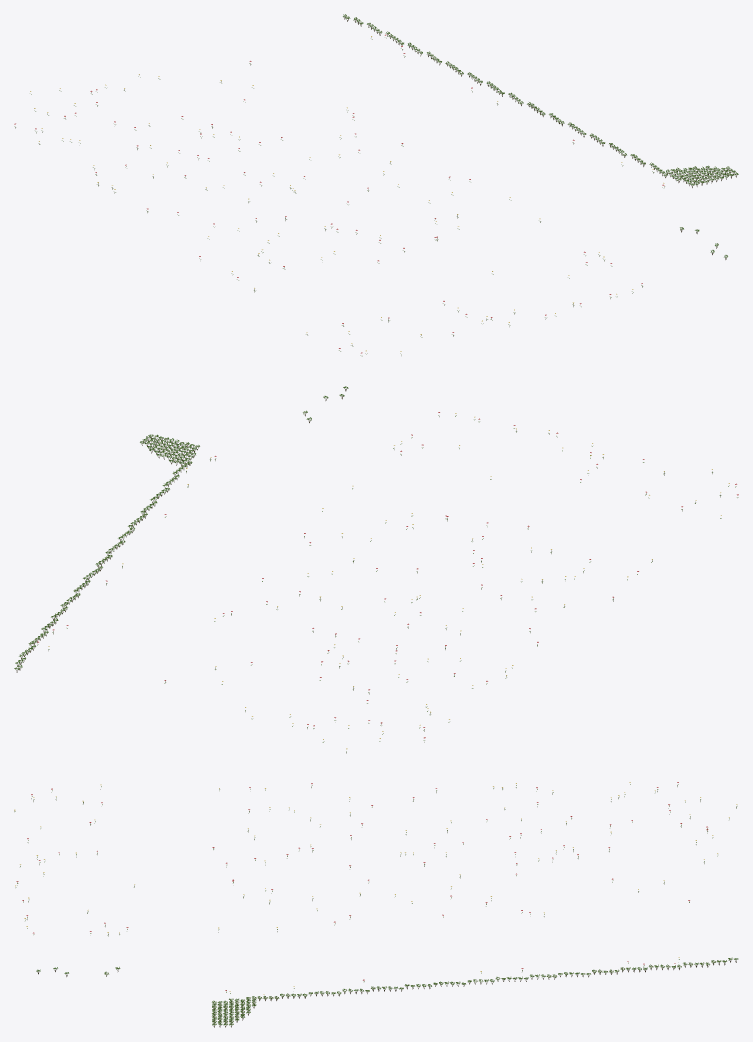
The picture shows the model from 3 angles, top to bottom: view 1: azimuth 30°, elevation 25°; view 2: azimuth 150°, elevation 25°; view 3: azimuth 270°, elevation 25°; orthographic projection. The views are drawn at different scales.
Visible parts, largest first — view 1: GROUND_FLORA_s_-8_-5; view 2: GROUND_FLORA_s_-8_-5; view 3: GROUND_FLORA_s_-8_-5.
Boxes of the visible parts, x1,y1,x2,y2 form: GROUND_FLORA_s_-8_-5: [14, 14, 738, 356]; GROUND_FLORA_s_-8_-5: [14, 386, 738, 753]; GROUND_FLORA_s_-8_-5: [14, 782, 738, 1027].
Size of the model in its own units: 101 by 1.97 by 128.
